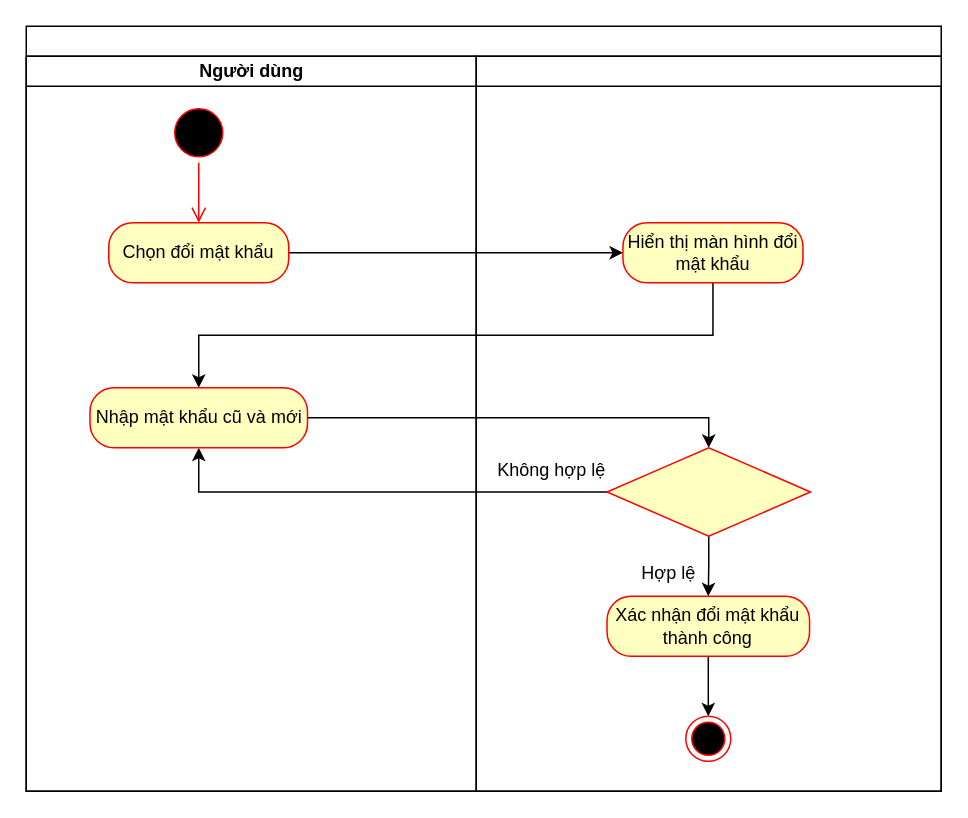
Image size: 968x818. Some labels were removed from this diagram. The shapes that lost their labels are listed below. From the top down, each one's box as (x1, y1, x2, y2) in pixels, then its label:
(475, 55, 941, 791): Hệ thống
(606, 446, 810, 536): Kiểm tra mật khẩu hợp lệ
